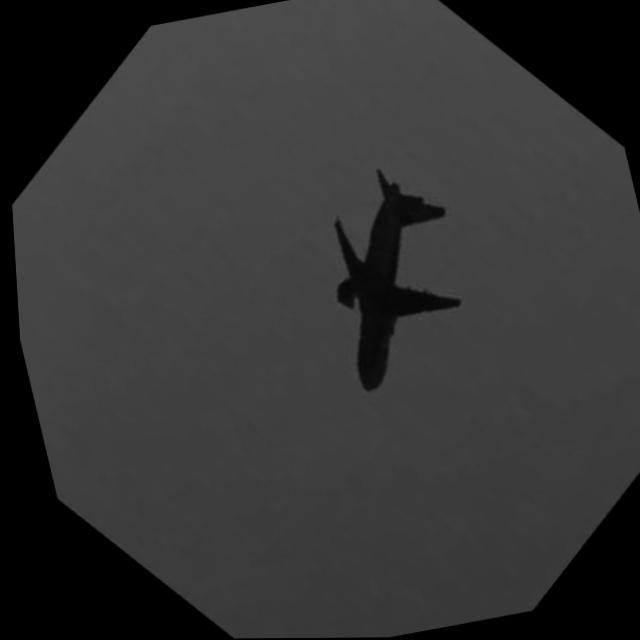aeroplane: (229, 141, 528, 421)
